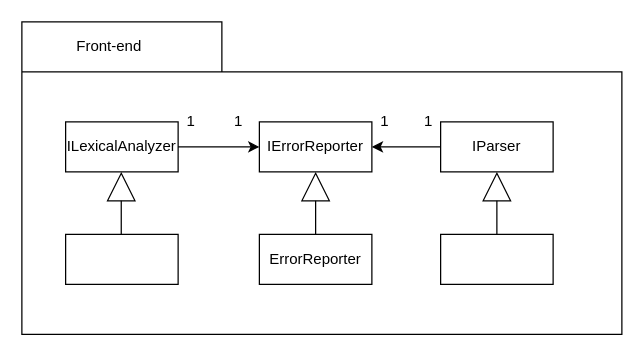
Image size: 644x356. Some labels were removed from this diagram. The shapes that lost their labels are listed below. From the top down, each one's centre as x and y in pixels, then its label:
At pixel 121 258: "LexicalAnalyzer".
At pixel 496 258: "Parser".
